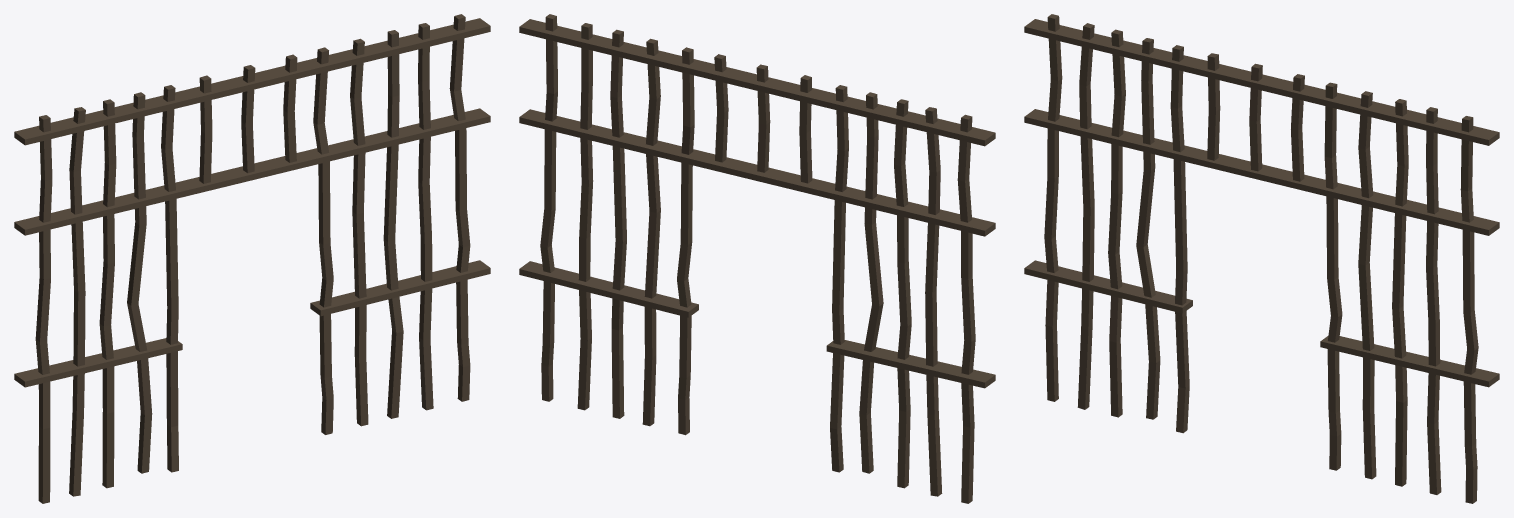
The model's file is jail_door_gate.gltf.
3 renders of one model, left to right at view 1: azimuth 30°, elevation 25°; view 2: azimuth 150°, elevation 25°; view 3: azimuth 330°, elevation 25°, orthographic.
Visible parts, largest first — view 1: Jail_Gate; view 2: Jail_Gate; view 3: Jail_Gate.
Boxes of the visible parts, bbox=[...] form: Jail_Gate: bbox=[14, 14, 490, 503]; Jail_Gate: bbox=[519, 14, 995, 503]; Jail_Gate: bbox=[1024, 14, 1499, 503].
Size of the model in its own units: 4 by 3.16 by 0.1618.
1 material, 1 textured.
